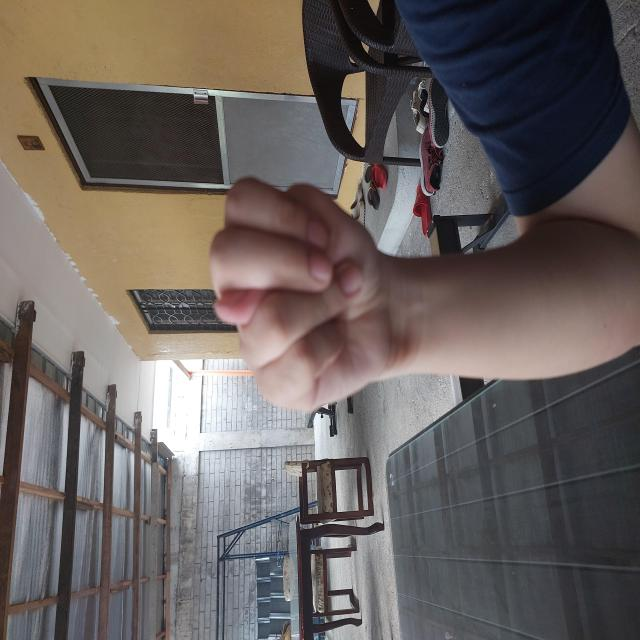N: (195, 161, 417, 461)
